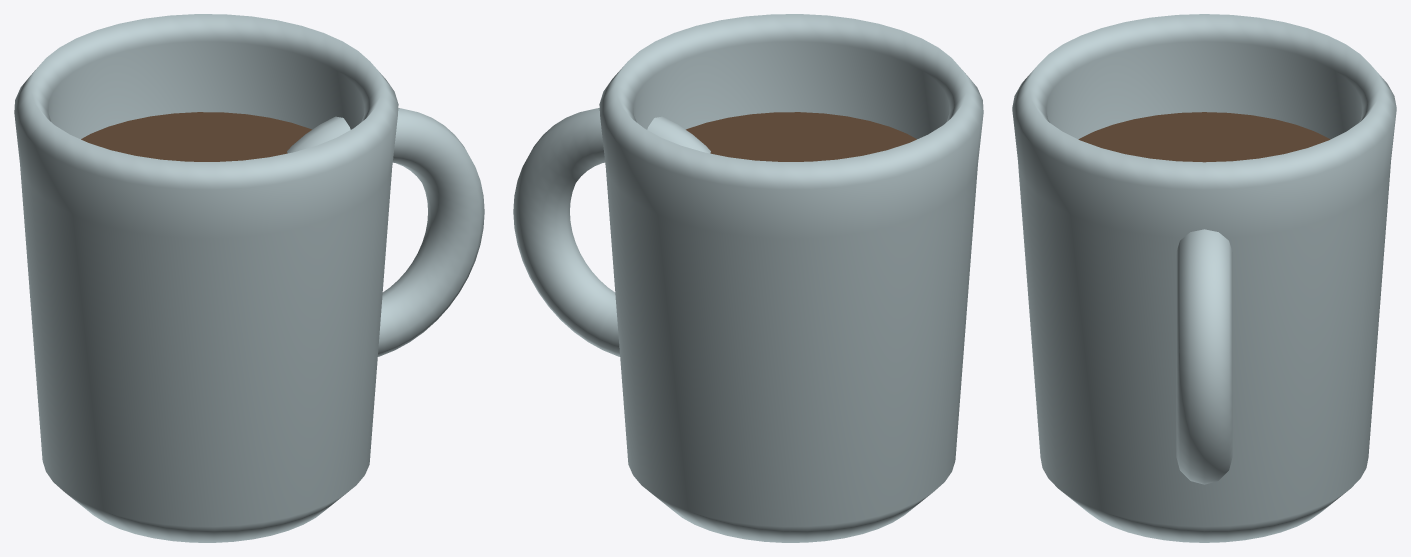
Rendered from urban-ceramic-mug-v1.glb.
The picture shows the model from 3 angles, left to right: view 1: azimuth 30°, elevation 25°; view 2: azimuth 150°, elevation 25°; view 3: azimuth 270°, elevation 25°; orthographic projection.
Visible parts, largest first — view 1: Mug-ceramic, Mug-handle, Coffee-surface; view 2: Mug-ceramic, Mug-handle, Coffee-surface; view 3: Mug-ceramic, Mug-handle, Coffee-surface.
Part boxes in pixels (box(x1,y1,x2,y2)): Mug-ceramic: box(14, 14, 398, 542); Mug-handle: box(287, 108, 484, 356); Coffee-surface: box(81, 112, 311, 161); Mug-ceramic: box(599, 14, 983, 542); Mug-handle: box(513, 108, 710, 356); Coffee-surface: box(686, 112, 916, 161); Mug-ceramic: box(1012, 14, 1396, 542); Mug-handle: box(1176, 229, 1232, 484); Coffee-surface: box(1078, 112, 1330, 162).
Size of the model in its own units: 0.099 by 0.0858 by 0.0748.
